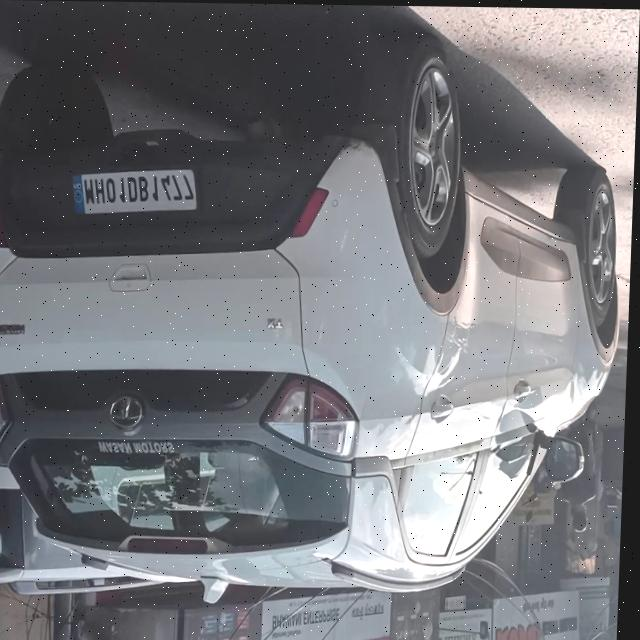plate: (73, 166, 200, 217)
